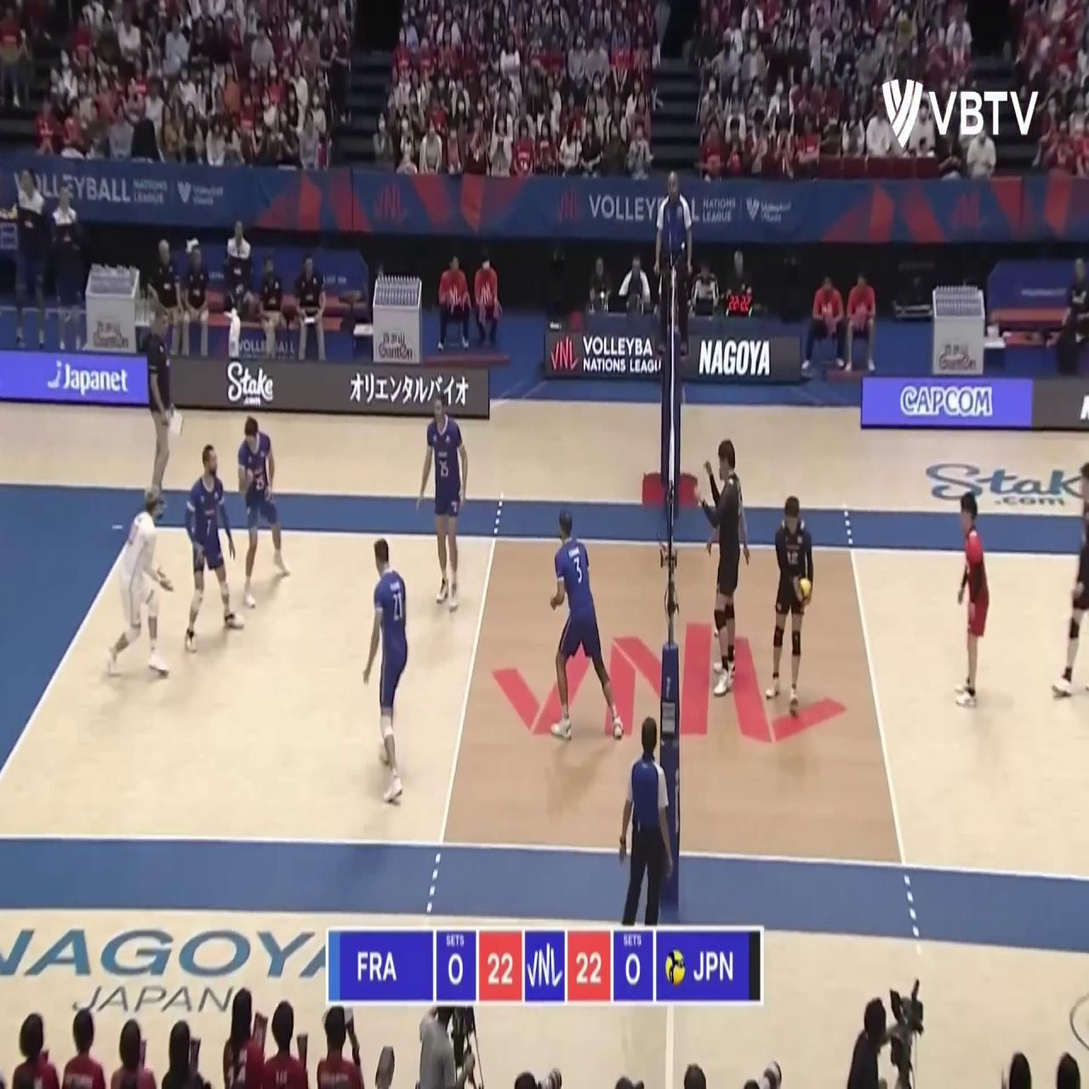ball: (796, 577, 811, 607)
